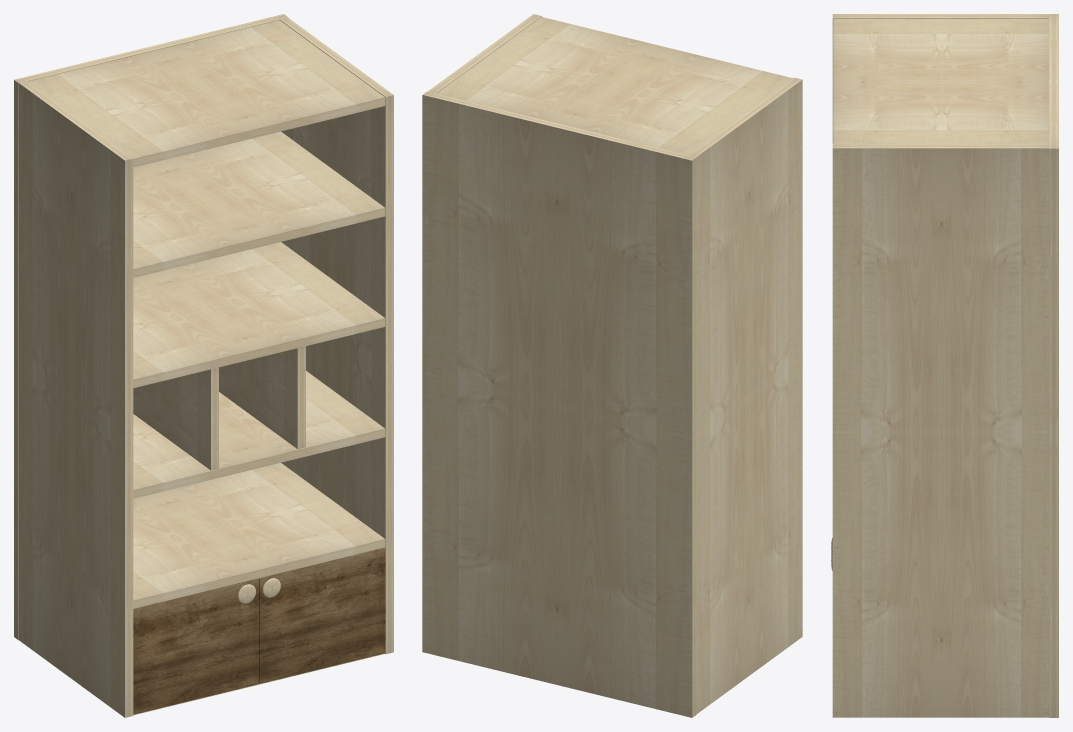
File: Estantes.obj
The picture shows the model from 3 angles, left to right: view 1: azimuth 30°, elevation 25°; view 2: azimuth 150°, elevation 25°; view 3: azimuth 270°, elevation 25°; orthographic projection. The views are drawn at different scales.
Parts seen in each view (by area): view 1: polySurface14; view 2: polySurface14; view 3: polySurface14.
Boxes of the visible parts, x1,y1,x2,y2 form: polySurface14: [14, 14, 393, 717]; polySurface14: [422, 14, 802, 717]; polySurface14: [831, 14, 1058, 717].
Size of the model in its own units: 9.14 by 18.05 by 6.54.
Materials: 3 (2 with a texture image).
